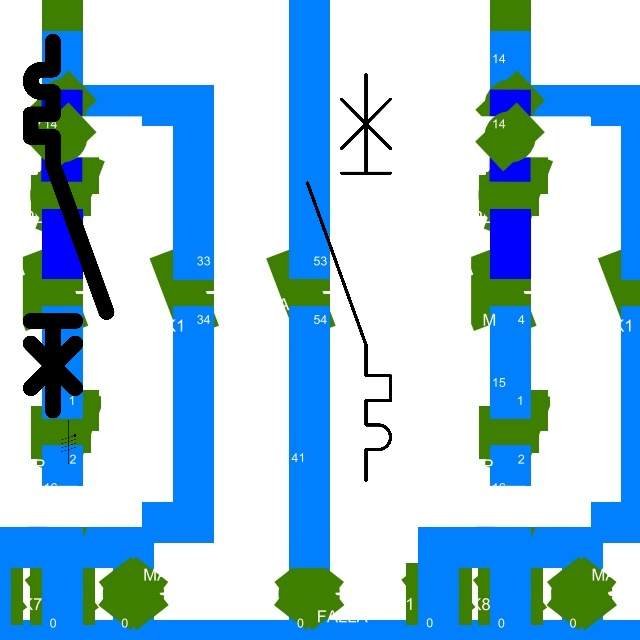interruptor_termomagnetico: (297, 64, 401, 491), (21, 32, 116, 420)
